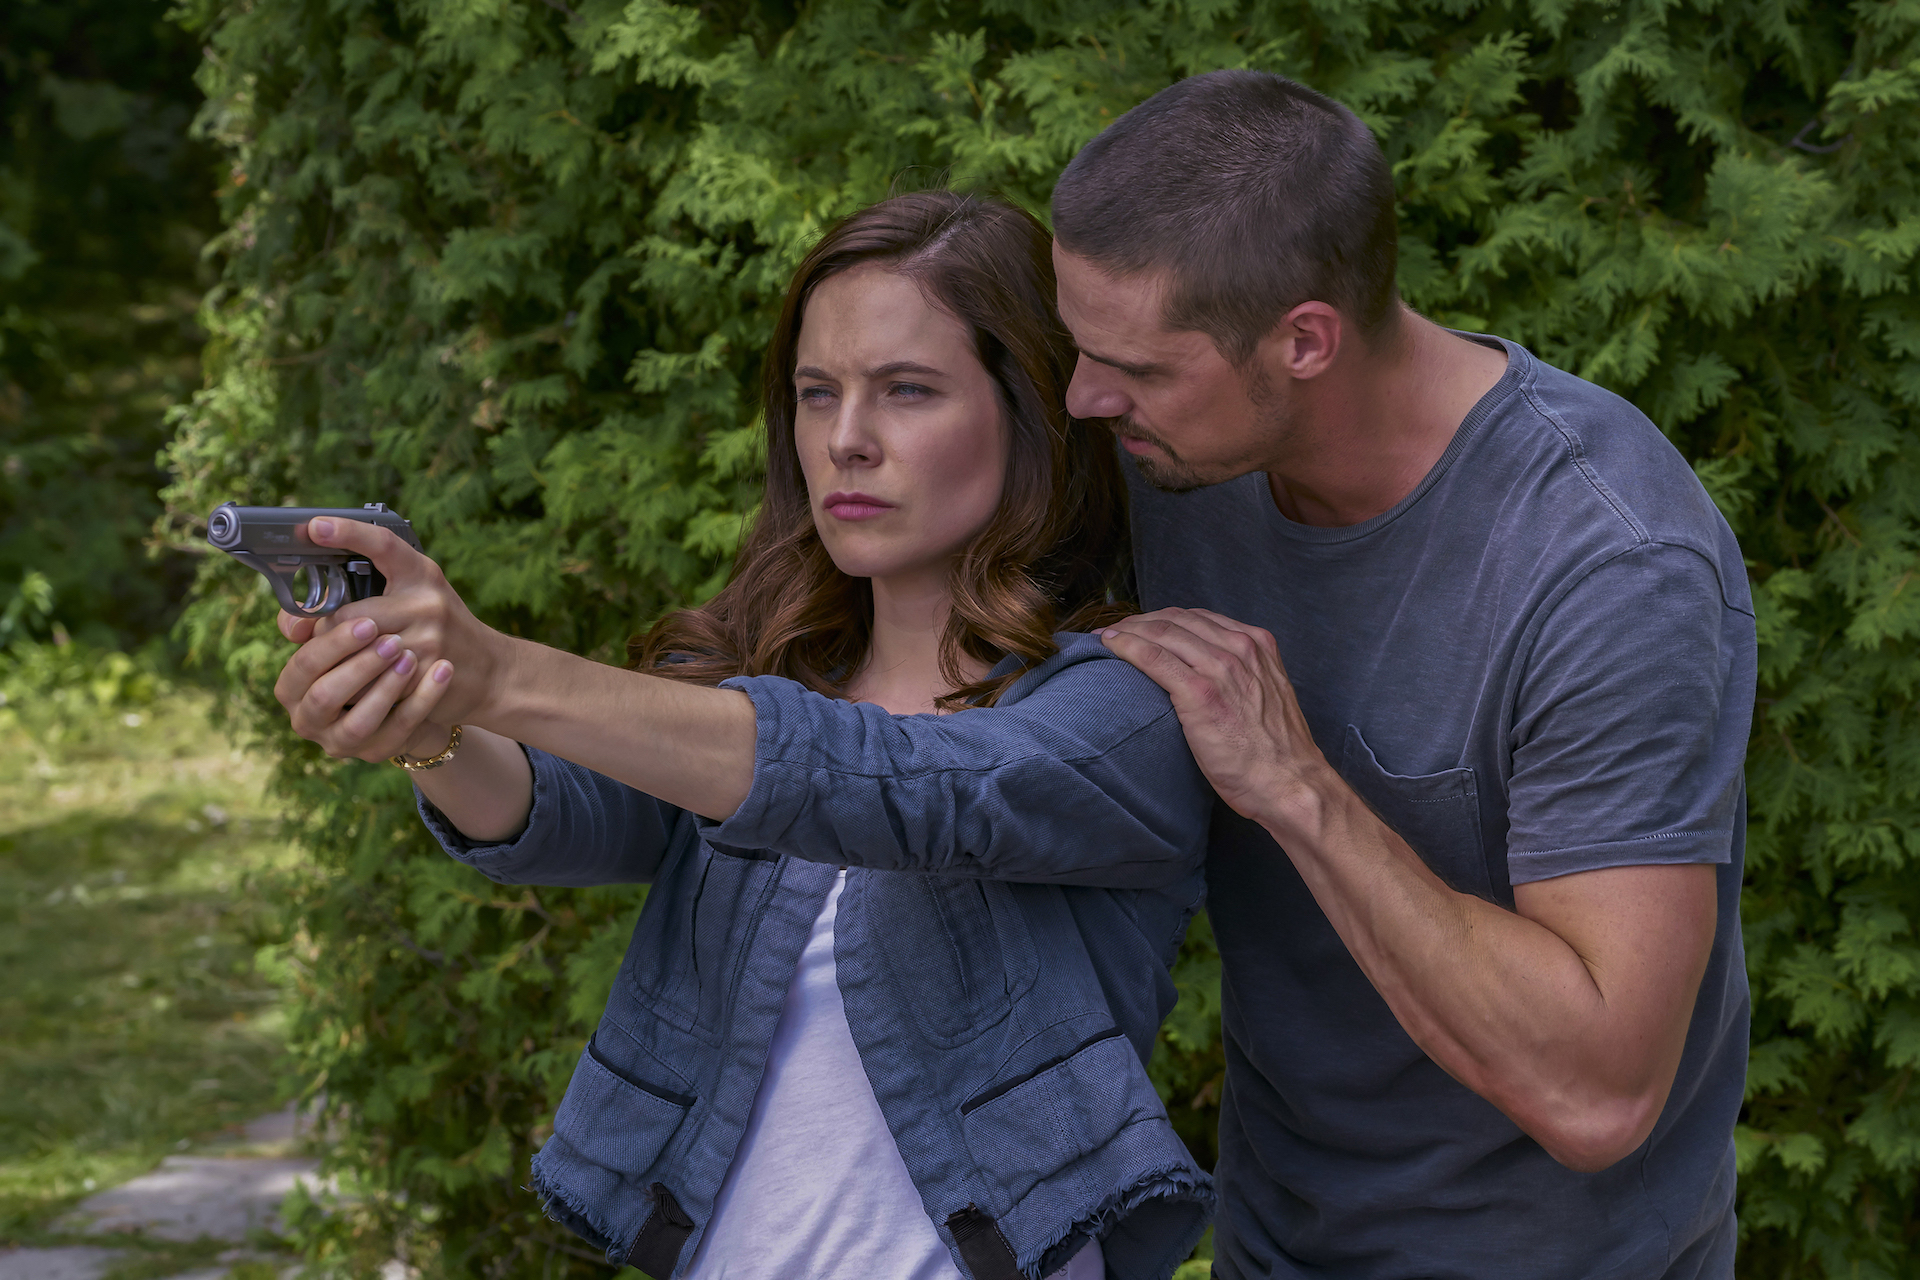pistol: (206, 497, 424, 621)
